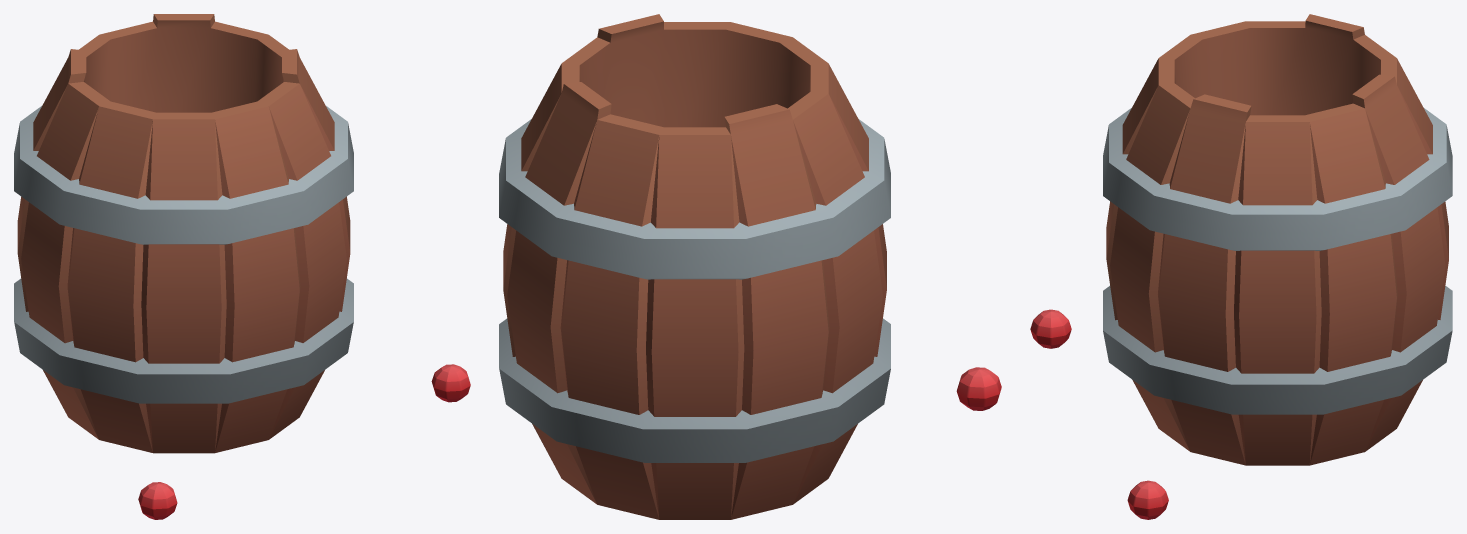
Rendered from apple_barrel_13.glb.
3 views of the same model, side by side, from view 1: azimuth 30°, elevation 25°; view 2: azimuth 150°, elevation 25°; view 3: azimuth 270°, elevation 25° (orthographic). The views are drawn at different scales.
Visible parts, largest first — view 1: apple_barrel_13; view 2: apple_barrel_13; view 3: apple_barrel_13.
Boxes of the visible parts, x1,y1,x2,y2 form: apple_barrel_13: [14, 14, 470, 519]; apple_barrel_13: [499, 14, 1001, 519]; apple_barrel_13: [1030, 14, 1452, 519].
Bounding box in the file's own units: 1.38 × 1.2 × 1.3.
2 materials, 2 textured.
